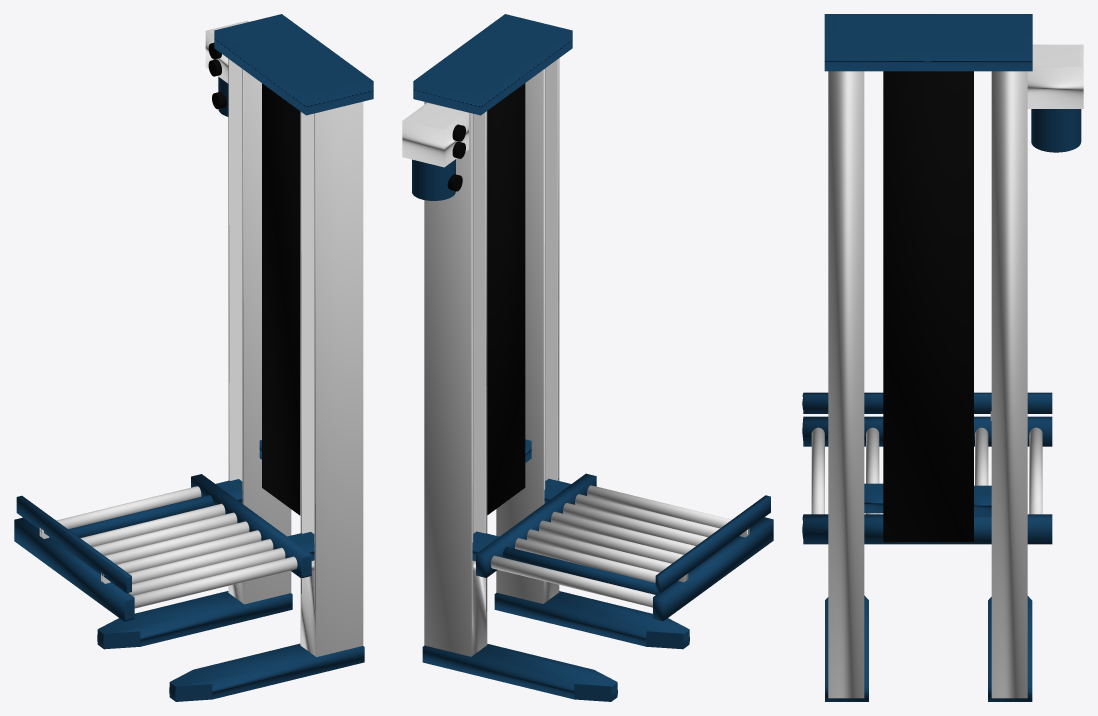
Rendered from Elevator.glb.
The picture shows the model from 3 angles, left to right: view 1: azimuth 30°, elevation 25°; view 2: azimuth 150°, elevation 25°; view 3: azimuth 270°, elevation 25°; orthographic projection. The views are drawn at different scales.
Parts seen in each view (by area): view 1: Belt.183, Belt.181, Belt.191, Belt.184, Belt.179, Belt.190, Belt.186, Belt.189, Cylinder 12.004, Cylinder 13.004, Cylinder 14.004, Cylinder 20.004 (+6 smaller); view 2: Belt.181, Belt.183, Belt.191, Belt.184, Belt.179, Belt.186, Belt.190, Belt.185, Belt.189, Cylinder 20.004, Cylinder 19.005, Cylinder 18.004 (+7 smaller); view 3: Belt.191, Belt.181, Belt.183, Belt.184, Belt.179, Belt.185, Cylinder, Belt.189, Cylinder 20.004, Cylinder 12.004, Belt.186, Belt.190 (+4 smaller).
Part boxes in pixels (x1,y1,x2,y2): Belt.183: (300, 101, 363, 656); Belt.181: (228, 59, 291, 604); Belt.191: (262, 83, 300, 515); Belt.184: (214, 14, 373, 115); Belt.179: (14, 474, 311, 621); Belt.190: (169, 643, 364, 701); Belt.186: (97, 591, 292, 649); Belt.189: (16, 495, 131, 593); Cylinder 12.004: (133, 556, 297, 608); Cylinder 13.004: (129, 547, 285, 595); Cylinder 14.004: (128, 539, 273, 583); Cylinder 20.004: (56, 486, 201, 529); Belt.181: (424, 102, 487, 656); Belt.183: (496, 58, 559, 603); Belt.191: (487, 83, 525, 514); Belt.184: (413, 14, 572, 115); Belt.179: (476, 473, 773, 621); Belt.186: (422, 644, 617, 701); Belt.190: (494, 591, 689, 649); Belt.185: (402, 102, 468, 167); Belt.189: (655, 495, 770, 592); Cylinder 20.004: (491, 555, 655, 607); Cylinder 19.005: (503, 547, 658, 594); Cylinder 18.004: (515, 538, 659, 582); Belt.191: (883, 71, 973, 542); Belt.181: (991, 71, 1027, 698); Belt.183: (828, 71, 864, 698); Belt.184: (824, 14, 1032, 71); Belt.179: (802, 416, 1052, 544); Belt.185: (1027, 44, 1083, 108); Cylinder: (1031, 109, 1081, 152); Belt.189: (802, 392, 1052, 413); Cylinder 20.004: (1029, 427, 1042, 514); Cylinder 12.004: (811, 427, 824, 514); Belt.186: (988, 596, 1032, 701); Belt.190: (825, 595, 868, 701).
Size of the model in its own units: 10.85 by 23.18 by 9.01.
